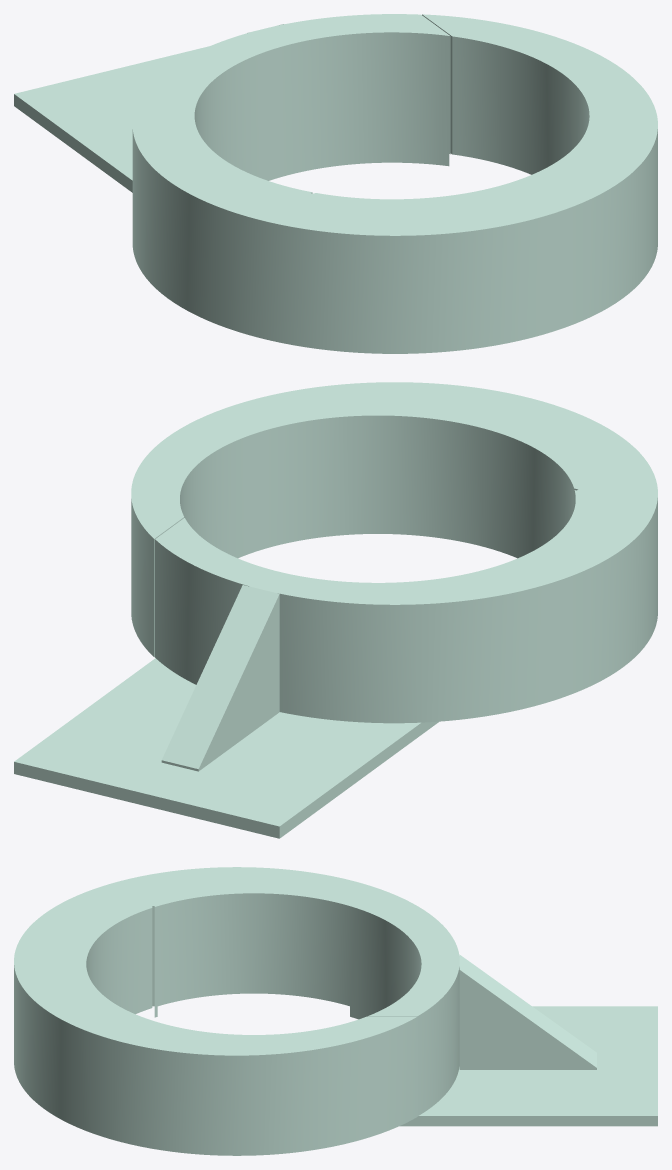
3 views of the same model, one above another, from view 1: azimuth 30°, elevation 25°; view 2: azimuth 150°, elevation 25°; view 3: azimuth 270°, elevation 25° (orthographic). The views are drawn at different scales.
Visible parts, largest first — view 1: Renderer Node; view 2: Renderer Node; view 3: Renderer Node.
Part boxes in pixels (x1,y1,x2,y2): Renderer Node: (14, 14, 657, 353); Renderer Node: (14, 382, 657, 838); Renderer Node: (14, 867, 657, 1155).
Size of the model in its own units: 0.9139 by 0.25 by 1.32.
